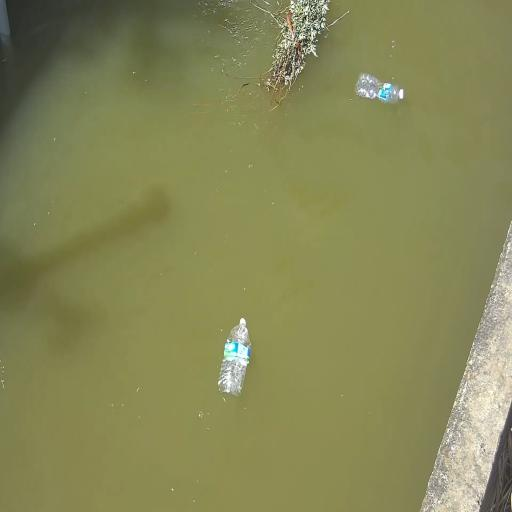plastic: (218, 318, 250, 396), (355, 73, 403, 104)
twig: (245, 0, 350, 111)
